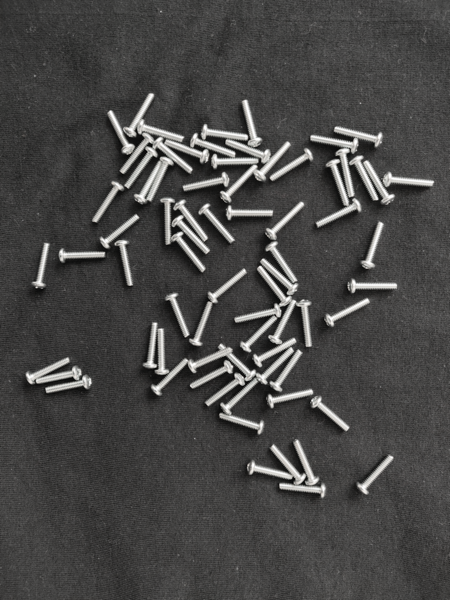longscrew: (198, 202, 238, 246), (267, 443, 308, 485), (265, 200, 306, 242), (219, 163, 259, 206), (356, 454, 395, 498), (171, 215, 212, 256), (152, 136, 194, 176), (308, 395, 351, 434), (173, 198, 211, 242), (268, 148, 315, 183), (256, 346, 296, 387), (221, 375, 260, 417), (254, 140, 292, 183), (255, 264, 293, 307), (170, 231, 208, 274), (122, 146, 158, 191), (217, 342, 257, 382), (259, 257, 300, 296), (362, 159, 396, 206), (151, 357, 189, 399), (315, 197, 363, 230), (263, 241, 299, 285), (119, 132, 155, 176), (90, 180, 125, 225), (290, 438, 322, 487), (323, 297, 372, 329), (208, 267, 248, 306), (99, 213, 141, 250), (123, 92, 156, 139), (269, 349, 304, 393), (205, 372, 246, 409), (349, 155, 380, 203), (240, 314, 278, 353), (252, 336, 298, 368), (188, 360, 235, 391), (105, 108, 136, 155), (24, 357, 72, 387), (269, 297, 298, 346), (134, 158, 163, 206), (187, 346, 234, 375), (189, 133, 238, 160), (325, 158, 351, 207), (136, 118, 185, 144), (331, 125, 384, 149), (164, 138, 211, 165), (360, 221, 385, 271), (224, 138, 272, 164), (147, 156, 173, 204), (164, 292, 190, 339), (217, 412, 267, 436), (239, 98, 263, 148), (309, 133, 360, 156), (189, 300, 213, 348), (265, 387, 315, 410), (44, 374, 94, 397), (246, 459, 295, 482), (34, 363, 83, 386), (335, 148, 357, 198), (233, 303, 283, 325), (114, 239, 136, 289), (181, 172, 231, 194), (382, 170, 436, 190), (31, 242, 52, 292), (295, 299, 315, 349), (199, 123, 249, 143), (276, 482, 330, 500), (346, 278, 399, 295), (159, 196, 177, 246), (223, 204, 275, 221), (58, 248, 108, 265), (153, 325, 169, 377), (210, 153, 262, 169), (142, 321, 158, 372)
